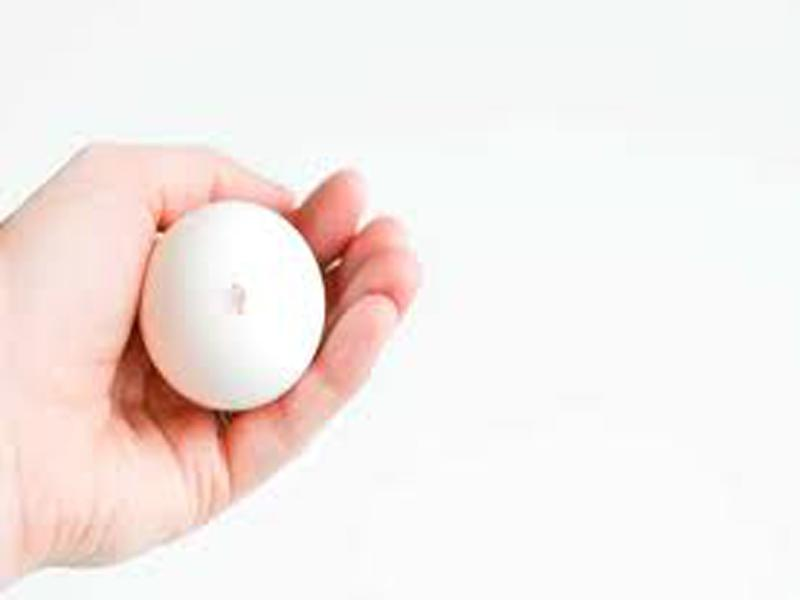Eggs: (142, 207, 325, 407)
